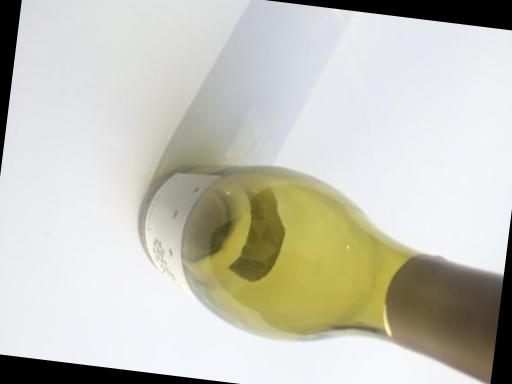glass: (111, 130, 512, 384)
